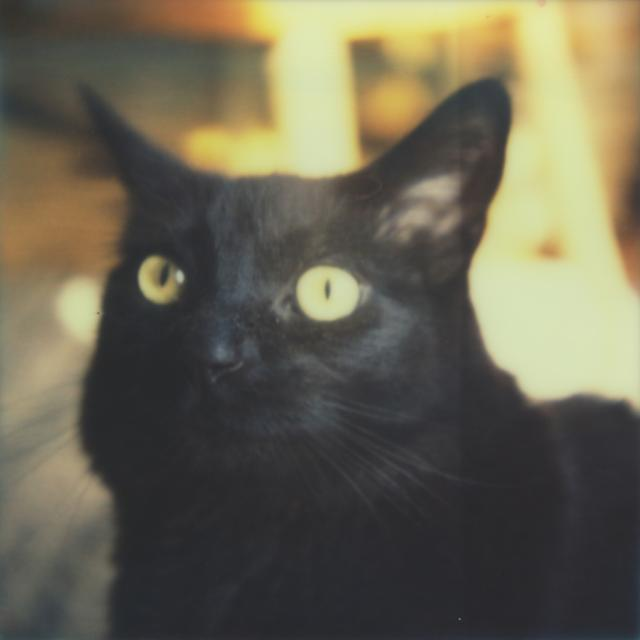Cat: (0, 72, 639, 639)
